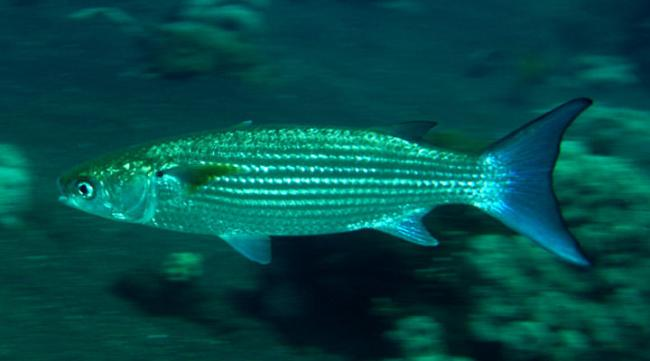fish: (54, 96, 593, 268)
